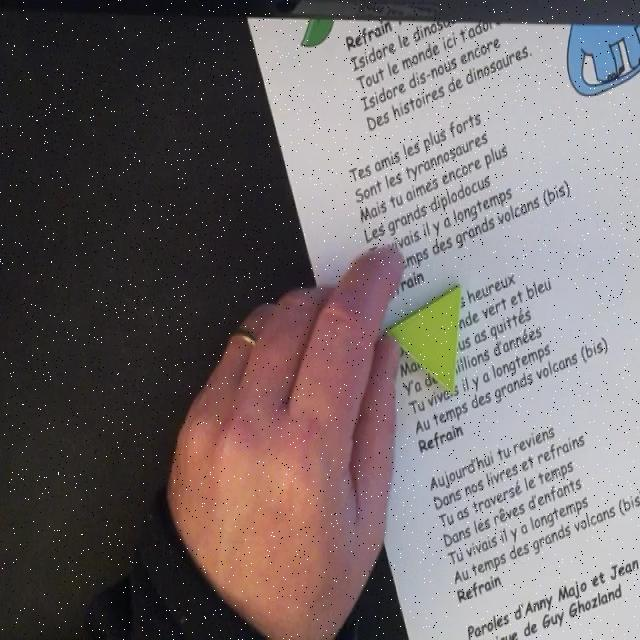triangle: (386, 284, 461, 395)
